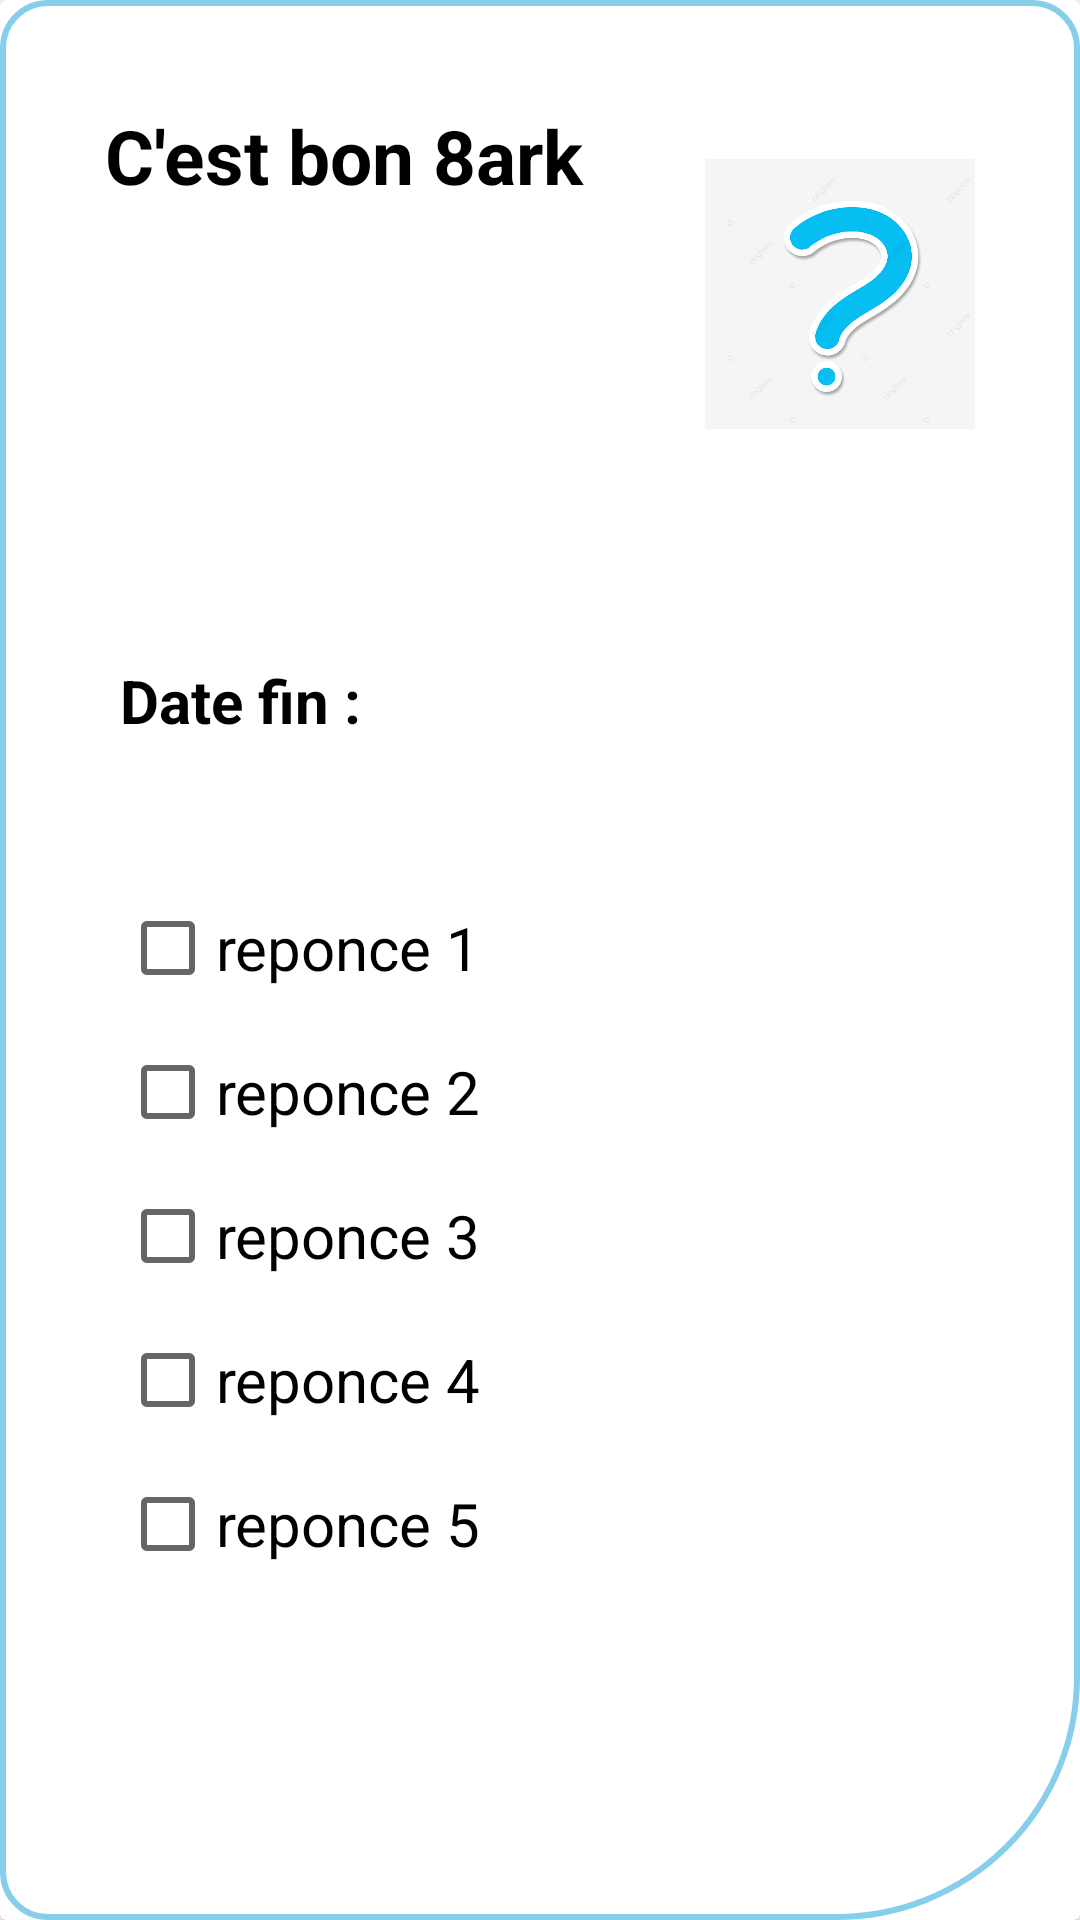

Point at icon controls on the screen. Image size 1080*1920, points as (x,y).
interro: (840,294)
